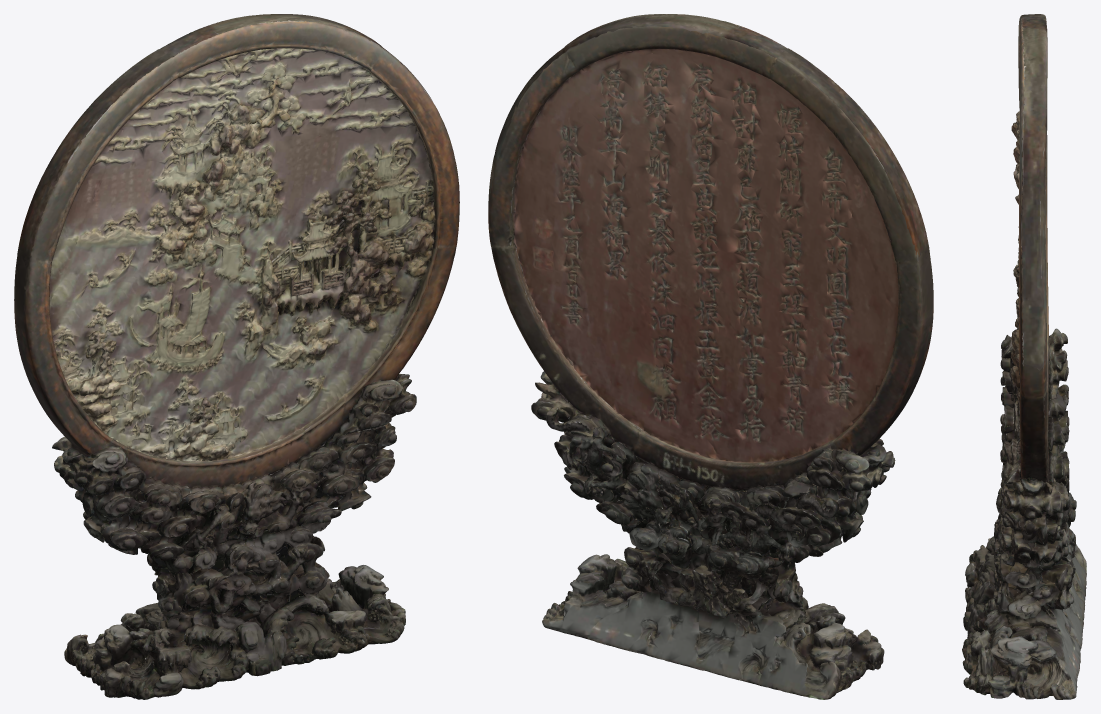
File: buc-phu-dieu.glb
3 renders of one model, left to right at view 1: azimuth 30°, elevation 25°; view 2: azimuth 150°, elevation 25°; view 3: azimuth 270°, elevation 25°, orthographic. The views are drawn at different scales.
Parts seen in each view (by area): view 1: Polygonal_Model_1 135; view 2: Polygonal_Model_1 135; view 3: Polygonal_Model_1 135.
Boxes of the visible parts, left/top/right/bottom form: Polygonal_Model_1 135: left=14, top=14, right=459, bottom=699; Polygonal_Model_1 135: left=488, top=14, right=933, bottom=699; Polygonal_Model_1 135: left=962, top=14, right=1086, bottom=699.
Bounding box in the file's own units: 2.89 × 3.96 × 0.7535.
Materials: 1 (1 with a texture image).
